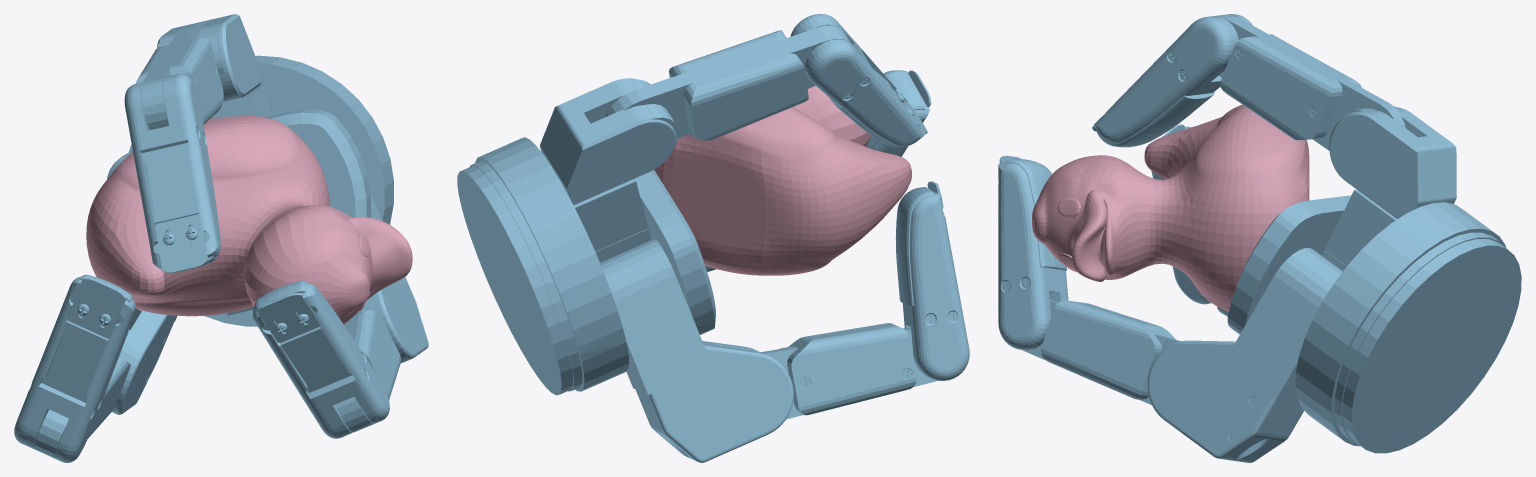
3 renders of one model, left to right at view 1: azimuth 30°, elevation 25°; view 2: azimuth 150°, elevation 25°; view 3: azimuth 270°, elevation 25°, orthographic. The views are drawn at different scales.
Visible parts, largest first — view 1: world; view 2: world; view 3: world.
Part boxes in pixels (x1=…): world: x1=14, y1=14, x2=428, y2=462; world: x1=457, y1=14, x2=969, y2=462; world: x1=998, y1=14, x2=1521, y2=462.
Size of the model in its own units: 0.1732 by 0.1488 by 0.1809.
